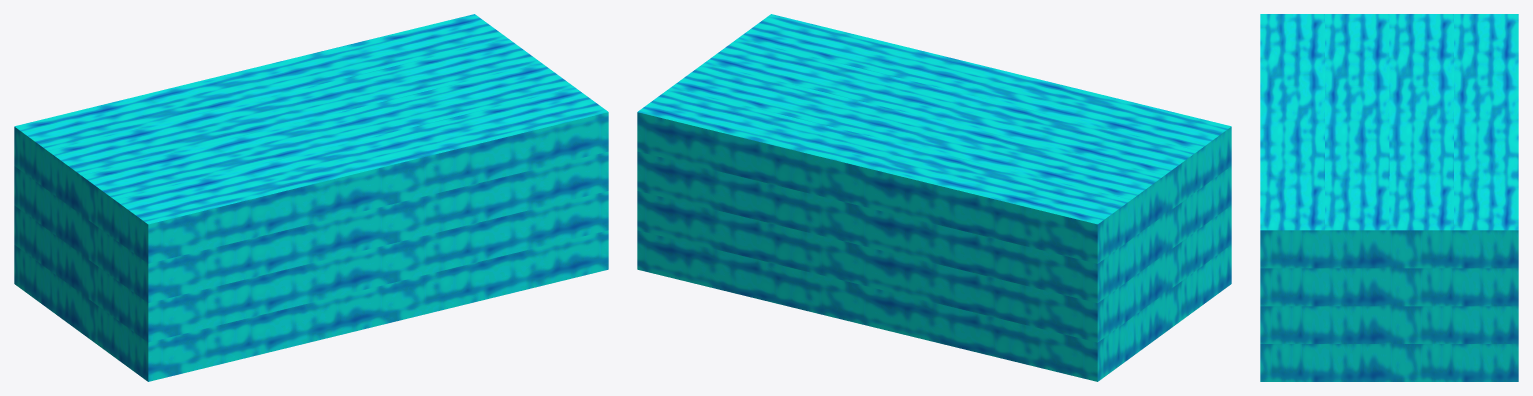
Rendered from SM_Tile_4x4_GreatWall_01.fbx.
The picture shows the model from 3 angles, left to right: view 1: azimuth 30°, elevation 25°; view 2: azimuth 150°, elevation 25°; view 3: azimuth 270°, elevation 25°; orthographic projection. The views are drawn at different scales.
Parts seen in each view (by area): view 1: SM_Tile_4x4_GreatWall_01; view 2: SM_Tile_4x4_GreatWall_01; view 3: SM_Tile_4x4_GreatWall_01.
Part boxes in pixels (x1,y1,x2,y2): SM_Tile_4x4_GreatWall_01: [14, 14, 608, 381]; SM_Tile_4x4_GreatWall_01: [637, 14, 1231, 381]; SM_Tile_4x4_GreatWall_01: [1260, 14, 1518, 381].
Size of the model in its own units: 400 by 131 by 202.
Materials: 1 (1 with a texture image).
